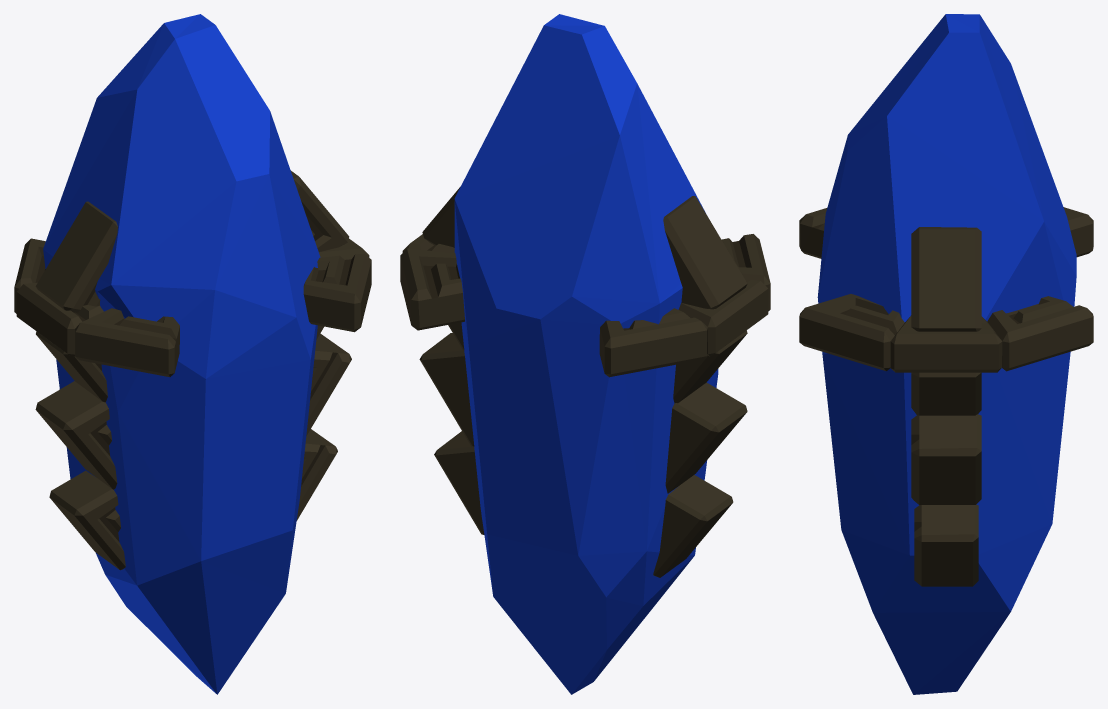
The model's file is ENV_RTS_Crystal_01.fbx.
3 renders of one model, left to right at view 1: azimuth 30°, elevation 25°; view 2: azimuth 150°, elevation 25°; view 3: azimuth 270°, elevation 25°, orthographic. The views are drawn at different scales.
Parts seen in each view (by area): view 1: ENV_RTS_Crystal_01; view 2: ENV_RTS_Crystal_01; view 3: ENV_RTS_Crystal_01.
Boxes of the visible parts, left/top/right/bottom form: ENV_RTS_Crystal_01: left=14, top=14, right=371, bottom=694; ENV_RTS_Crystal_01: left=400, top=14, right=770, bottom=694; ENV_RTS_Crystal_01: left=799, top=14, right=1093, bottom=694.
Size of the model in its own units: 194 by 401 by 160.
